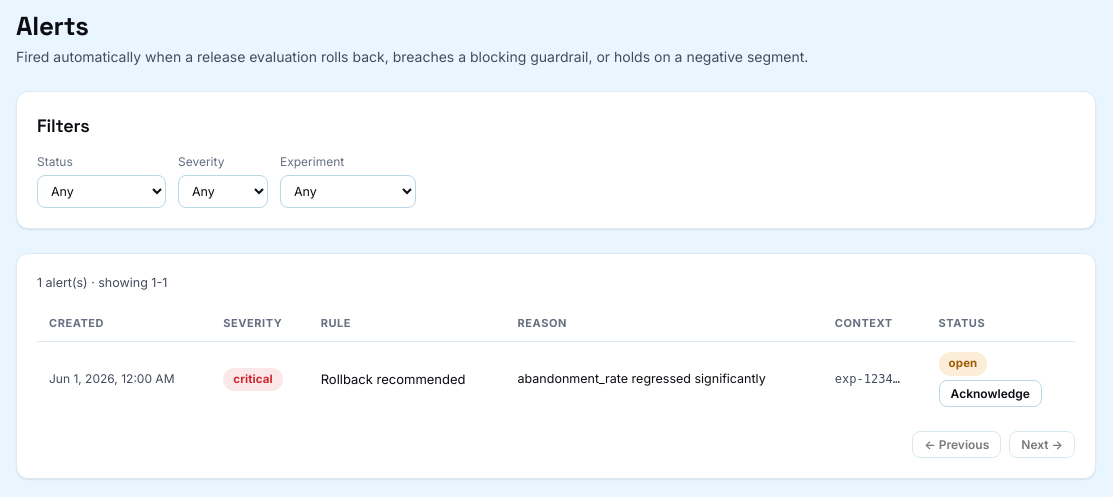
Test: Alerts › acknowledging an open alert removes the Acknowledge action
What coordinates should you click on to do the following:
click the button "Acknowledge"
I would click on:
 (990, 393)
Its box is [939,380,1042,406].
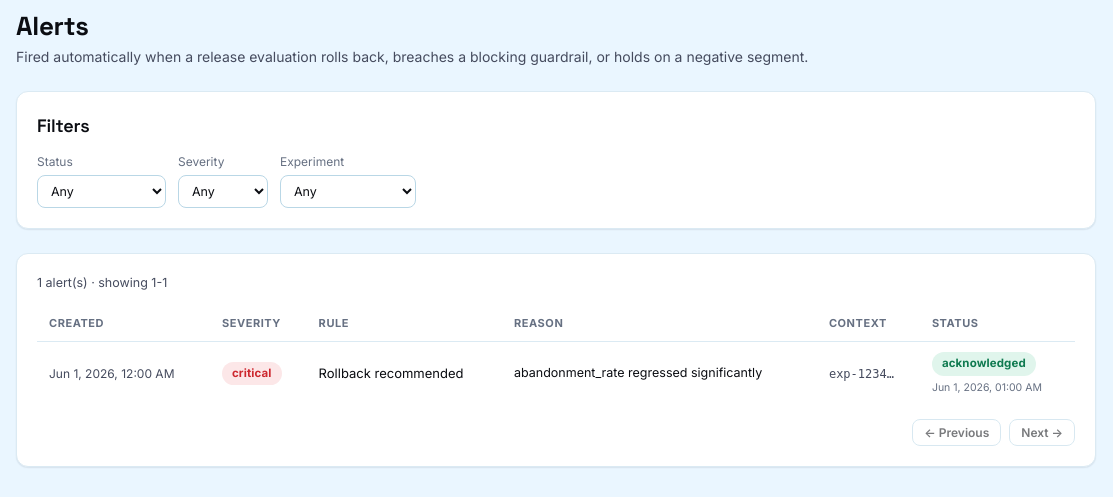
Check: the text "acknowledged" is shown, box [932,352,1036,376]
